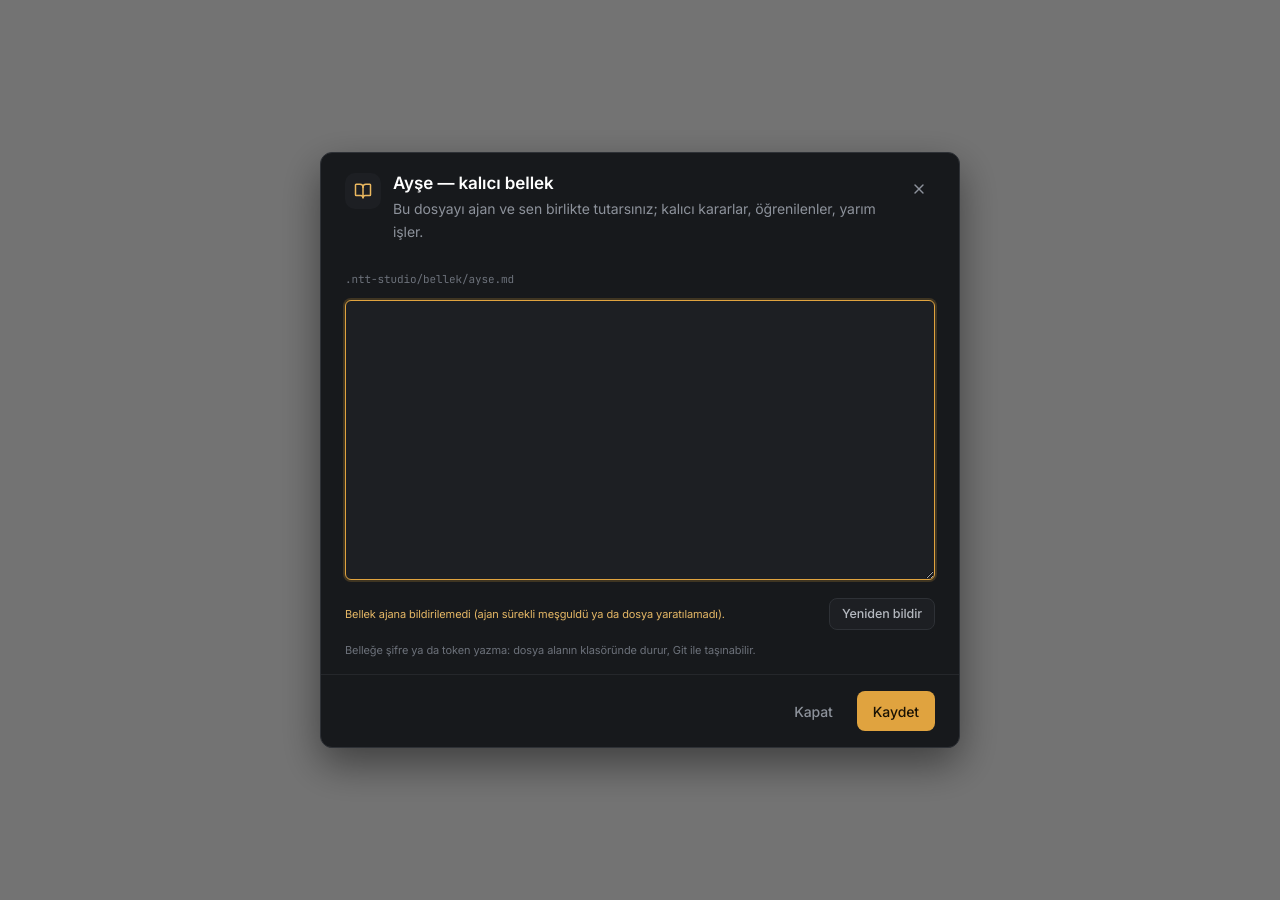
Scenario: MemoryDialog › Yeniden bildir false dönünce hata satırı çıkıyor, düğme yerinde kalıyor
The image size is (1280, 900).
Click the button "Yeniden bildir" at coordinates (882, 614), box [829,598,935,630]
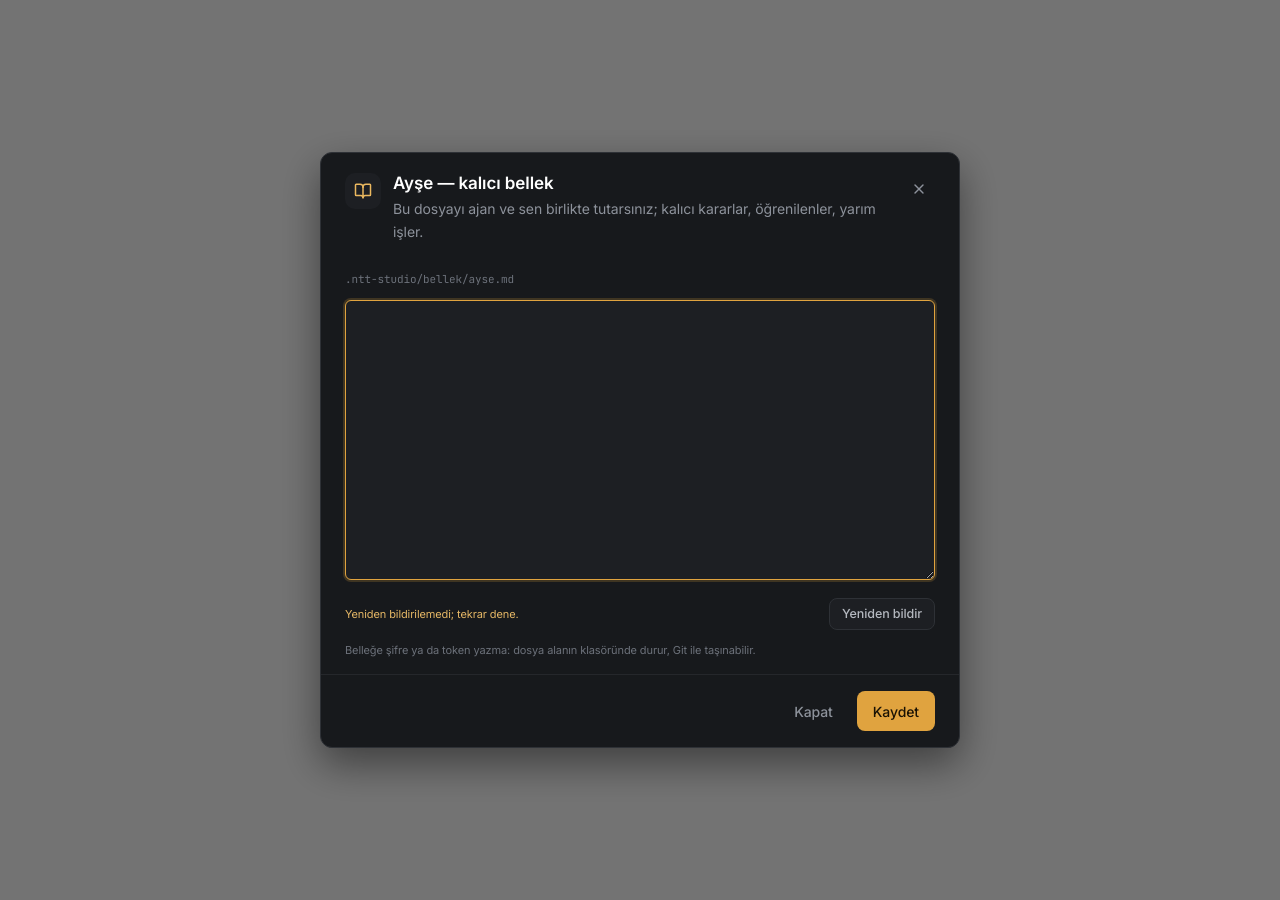
Result: the text "Yeniden bildirilemedi; tekrar dene." is shown at [345,607,519,621]
